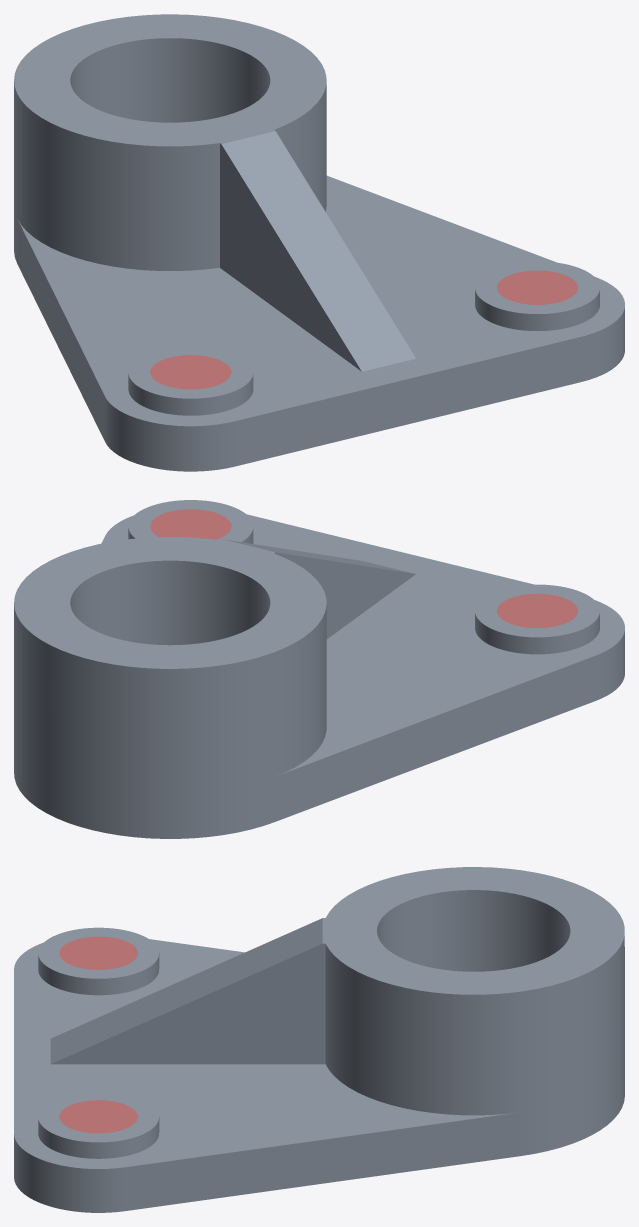
File: step_07.glb
The picture shows the model from 3 angles, top to bottom: view 1: azimuth 30°, elevation 25°; view 2: azimuth 150°, elevation 25°; view 3: azimuth 270°, elevation 25°; orthographic projection. The views are drawn at different scales.
Parts seen in each view (by area): view 1: part__boss bracket, removed__boss bracket; view 2: part__boss bracket, removed__boss bracket; view 3: part__boss bracket, removed__boss bracket.
Part boxes in pixels (x1,y1,x2,y2): part__boss bracket: (14, 14, 624, 471); removed__boss bracket: (150, 270, 577, 389); part__boss bracket: (14, 500, 624, 838); removed__boss bracket: (150, 509, 577, 627); part__boss bracket: (14, 867, 624, 1212); removed__boss bracket: (59, 936, 137, 1133).
Bounding box in the file's own units: 91.99 × 30 × 101.
